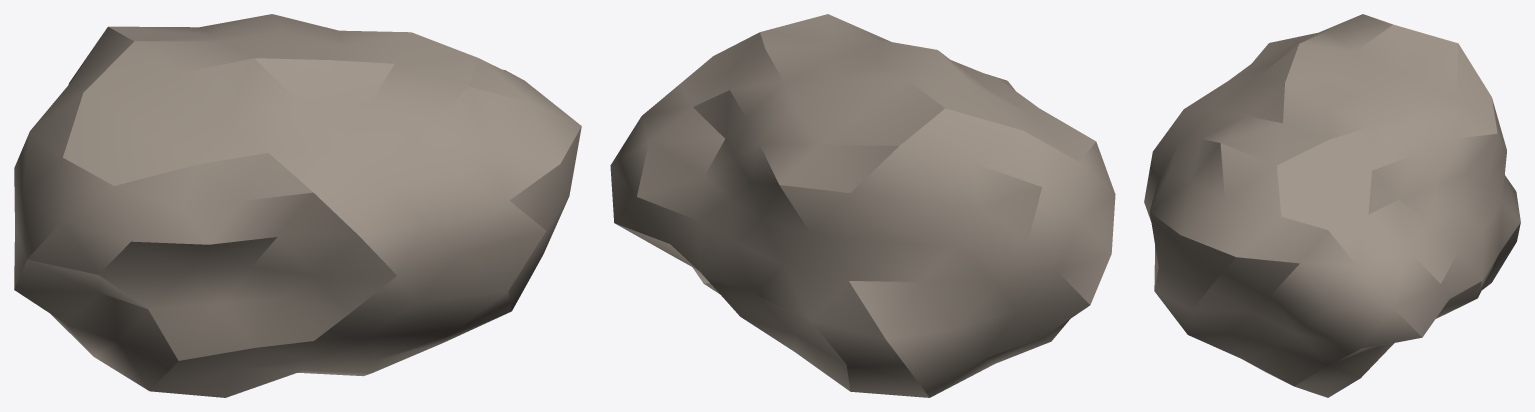
File: rock3.glb
The picture shows the model from 3 angles, left to right: view 1: azimuth 30°, elevation 25°; view 2: azimuth 150°, elevation 25°; view 3: azimuth 270°, elevation 25°; orthographic projection. The views are drawn at different scales.
Parts seen in each view (by area): view 1: Rock; view 2: Rock; view 3: Rock.
Part boxes in pixels (left/top/right/bottom): Rock: left=14, top=14, right=581, bottom=397; Rock: left=610, top=14, right=1115, bottom=397; Rock: left=1144, top=14, right=1520, bottom=397.
Size of the model in its own units: 2.81 by 1.76 by 2.08.
